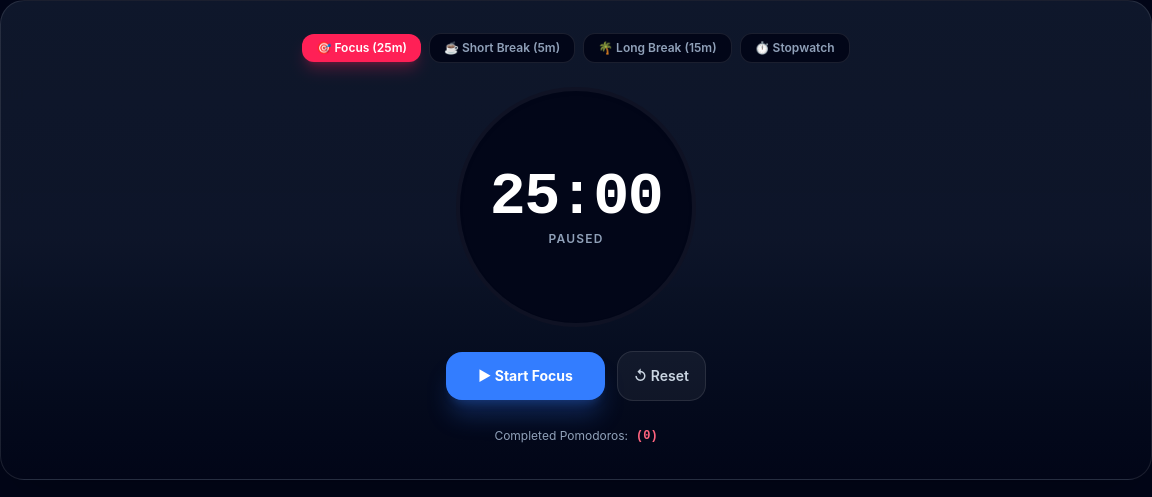
Scenario: Productivity & AI Tools Client Suite › renders InteractiveTimer in pomodoro mode and switches tabs
Expected: the text "25:00" is shown, [490,163,662,231]
Expected: the button "▶ Start Focus" is shown, [446,352,605,400]
Click the button "☕ Short Break (5m)": (502, 48) [429,33,575,63]
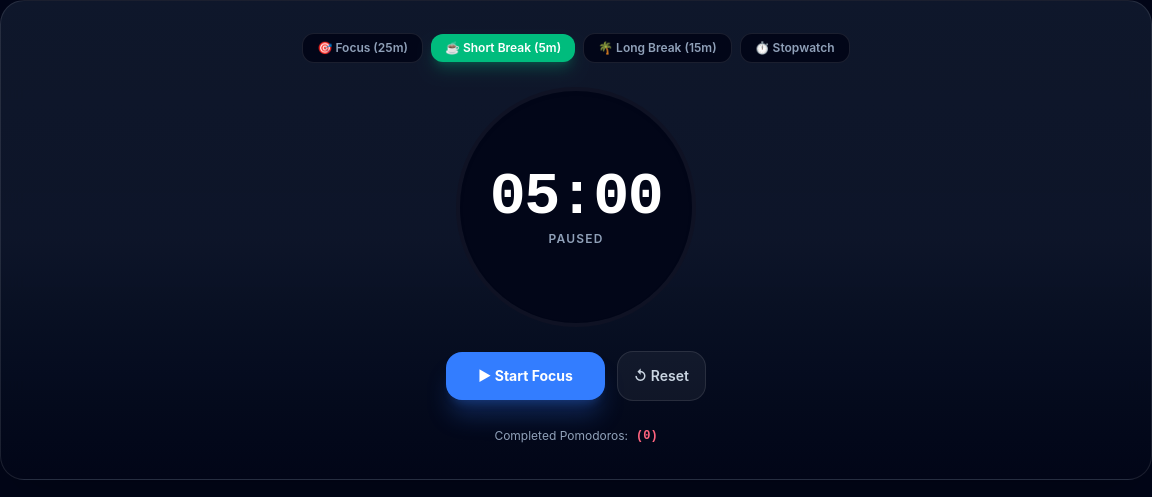
Expected: the text "05:00" is shown, [490,163,662,231]
